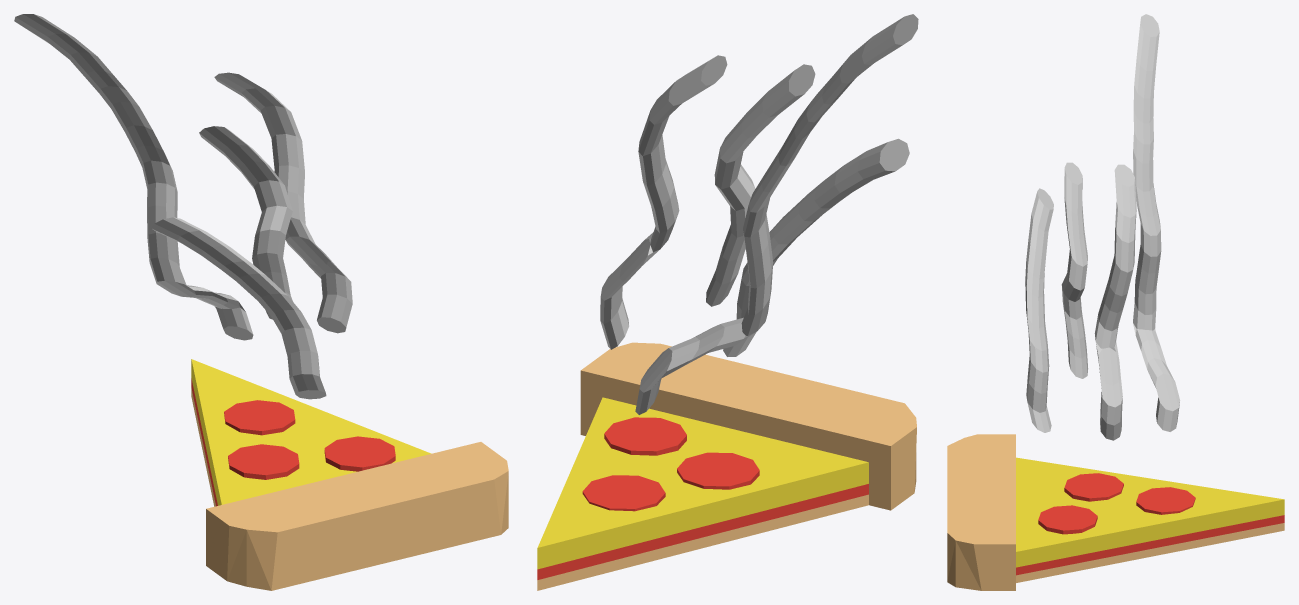
File: Pizza.fbx
3 renders of one model, left to right at view 1: azimuth 30°, elevation 25°; view 2: azimuth 150°, elevation 25°; view 3: azimuth 270°, elevation 25°, orthographic. The views are drawn at different scales.
Visible parts, largest first — view 1: mesh_986509852, mesh_80753556, group_1260094031, group_1121393557, group_1923702787, group_867495467, group_894704211, group_1358147361, group_2006061946; view 2: mesh_80753556, mesh_986509852, group_1260094031, group_1121393557, group_867495467, group_1923702787, group_1358147361, group_894704211, group_2006061946; view 3: mesh_80753556, mesh_986509852, group_1260094031, group_1121393557, group_1923702787, group_867495467, group_1358147361, group_894704211, group_2006061946.
Boxes of the visible parts, x1,y1,x2,y2 form: mesh_986509852: [206, 442, 508, 590]; mesh_80753556: [191, 359, 431, 506]; group_1260094031: [14, 14, 253, 340]; group_1121393557: [214, 72, 352, 333]; group_1923702787: [151, 217, 326, 399]; group_867495467: [199, 126, 292, 319]; group_894704211: [228, 444, 299, 479]; group_1358147361: [324, 436, 395, 471]; group_2006061946: [224, 400, 295, 435]; mesh_80753556: [537, 397, 868, 590]; mesh_986509852: [580, 342, 916, 510]; group_1260094031: [635, 14, 918, 414]; group_1121393557: [600, 55, 727, 349]; group_867495467: [706, 64, 815, 306]; group_1923702787: [723, 138, 909, 356]; group_1358147361: [604, 417, 686, 455]; group_894704211: [677, 452, 759, 489]; group_2006061946: [582, 475, 665, 511]; mesh_80753556: [1016, 457, 1284, 582]; mesh_986509852: [947, 434, 1015, 590]; group_1260094031: [1133, 14, 1180, 431]; group_1121393557: [1094, 164, 1136, 440]; group_1923702787: [1025, 188, 1053, 432]; group_867495467: [1061, 162, 1088, 378]; group_1358147361: [1038, 505, 1097, 534]; group_894704211: [1064, 473, 1123, 501]; group_2006061946: [1136, 487, 1195, 514].
Size of the model in its own units: 42.02 by 54.55 by 39.21.
